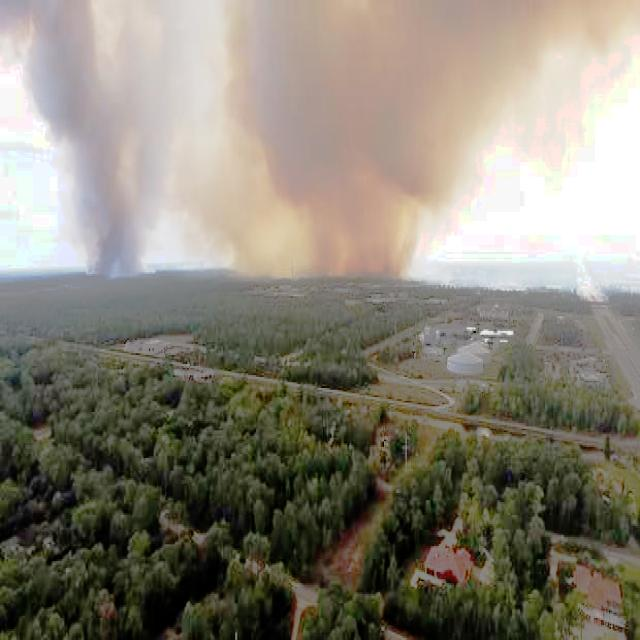asap: (175, 1, 640, 295), (1, 1, 203, 287)
